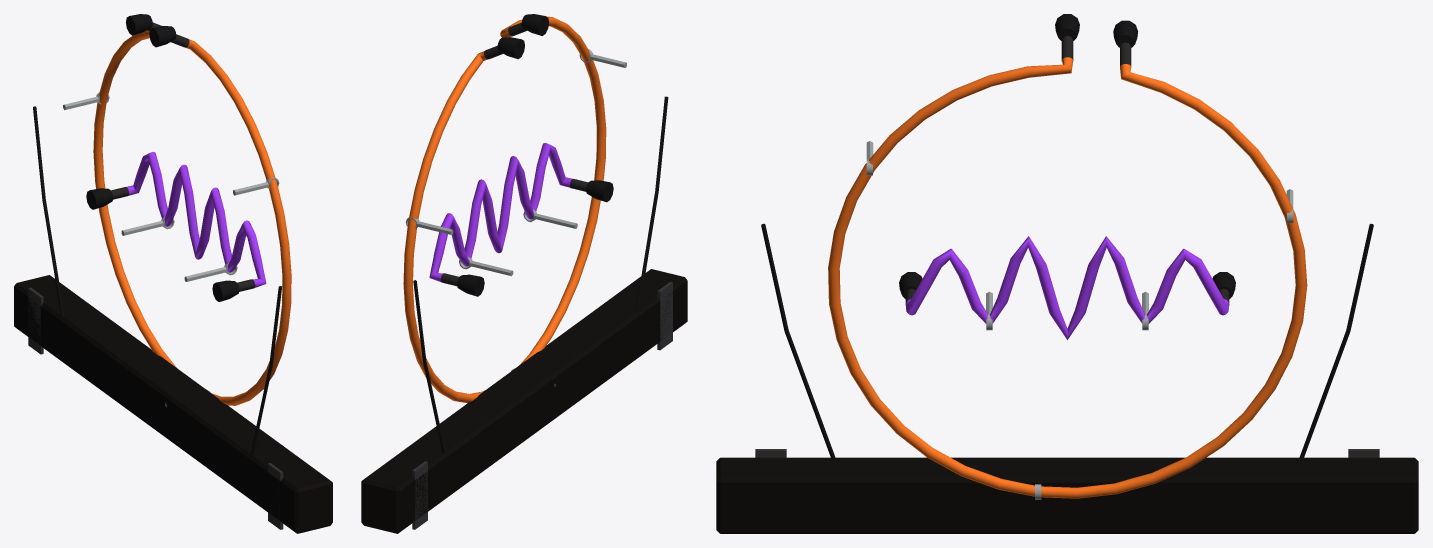
Rendered from neon_sign@1.glb.
3 renders of one model, left to right at view 1: azimuth 30°, elevation 25°; view 2: azimuth 150°, elevation 25°; view 3: azimuth 270°, elevation 25°, orthographic. The views are drawn at different scales.
Visible parts, largest first — view 1: teil0, teil2, teil5, teil4, teil7, teil6, teil1, teil3; view 2: teil0, teil2, teil5, teil4, teil7, teil1, teil6, teil3; view 3: teil0, teil2, teil5, teil7, teil4, teil6.
Boxes of the visible parts, left/top/right/bottom form: teil0: left=14, top=275, right=332, bottom=533; teil2: left=93, top=30, right=291, bottom=405; teil5: left=126, top=152, right=266, bottom=287; teil4: left=86, top=14, right=239, bottom=301; teil7: left=33, top=106, right=282, bottom=455; teil6: left=63, top=92, right=279, bottom=406; teil1: left=28, top=287, right=283, bottom=529; teil3: left=111, top=22, right=255, bottom=291; teil0: left=361, top=269, right=687, bottom=533; teil2: left=403, top=16, right=606, bottom=403; teil5: left=429, top=143, right=572, bottom=282; teil4: left=457, top=14, right=613, bottom=296; teil7: left=413, top=96, right=668, bottom=453; teil1: left=412, top=282, right=672, bottom=529; teil6: left=405, top=49, right=626, bottom=386; teil3: left=441, top=22, right=588, bottom=286; teil0: left=716, top=457, right=1418, bottom=533; teil2: left=828, top=57, right=1307, bottom=498; teil5: left=906, top=236, right=1228, bottom=339; teil7: left=761, top=223, right=1373, bottom=458; teil4: left=899, top=14, right=1235, bottom=298; teil6: left=866, top=141, right=1293, bottom=499.
Size of the model in its own units: 0.0925 by 0.7152 by 0.9.
